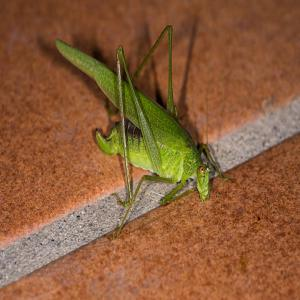locust: (54, 15, 225, 210)
